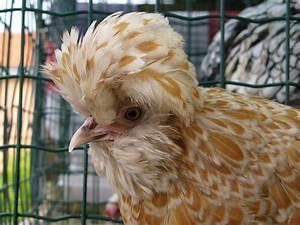hen: (39, 9, 299, 224)
